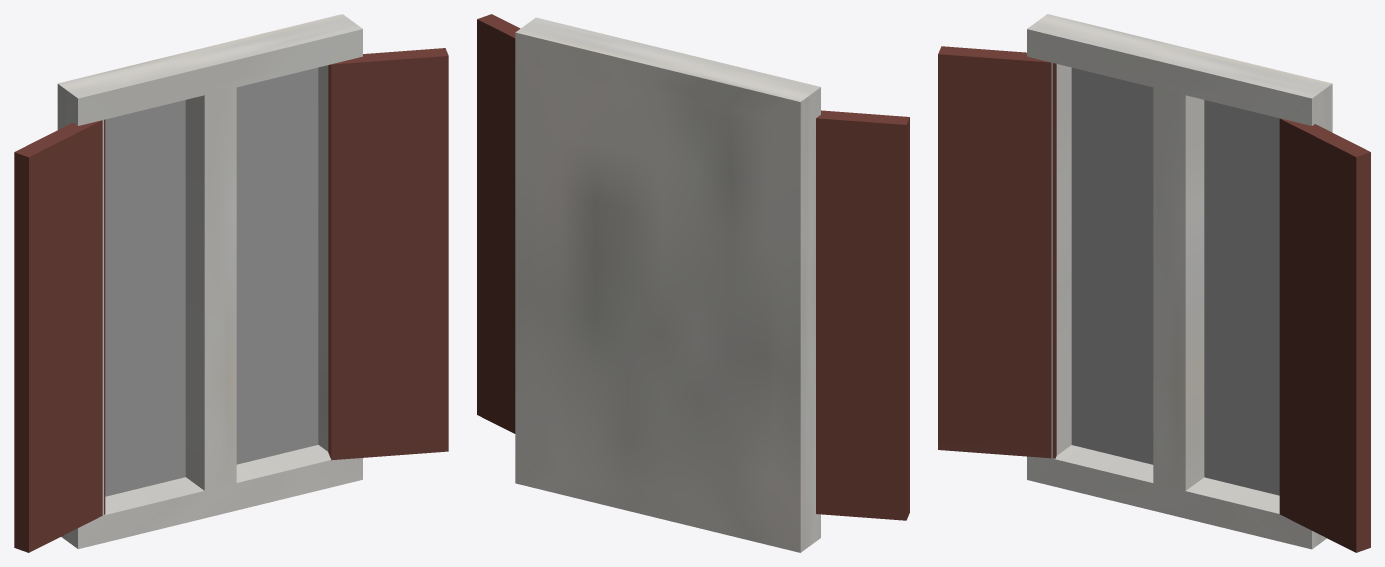
Rendered from obj_window_r1.fbx.
3 renders of one model, left to right at view 1: azimuth 30°, elevation 25°; view 2: azimuth 150°, elevation 25°; view 3: azimuth 330°, elevation 25°, orthographic.
Visible parts, largest first — view 1: obj_window_r1; view 2: obj_window_r1; view 3: obj_window_r1.
Part boxes in pixels (x1,y1,x2,y2): obj_window_r1: (14, 14, 448, 552); obj_window_r1: (477, 14, 909, 552); obj_window_r1: (938, 14, 1370, 552).
Bounding box in the file's own units: 1.51 × 1.51 × 0.251.
2 materials, 1 textured.
